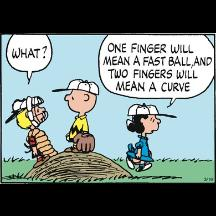charlie: (65, 78, 100, 152)
